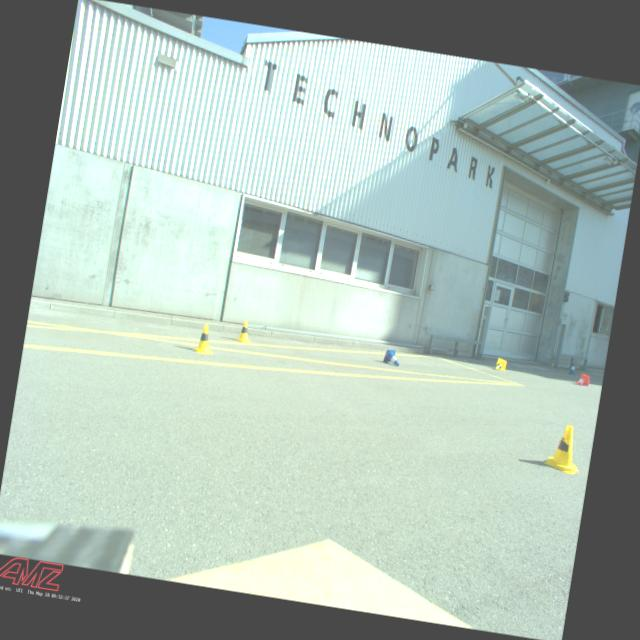blue_cone: (382, 348, 402, 366), (568, 362, 577, 375)
orange_cone: (576, 372, 590, 387)
yellow_cone: (543, 423, 586, 476), (192, 324, 217, 356), (234, 320, 253, 344), (495, 358, 507, 372)
